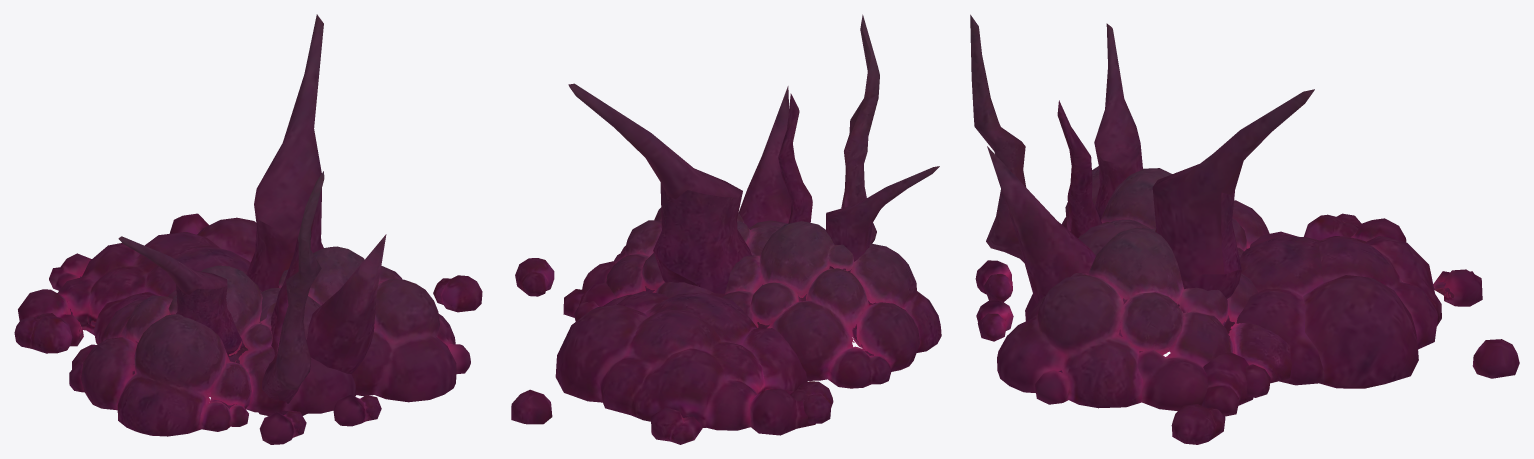
3 views of the same model, side by side, from view 1: azimuth 30°, elevation 25°; view 2: azimuth 150°, elevation 25°; view 3: azimuth 270°, elevation 25° (orthographic). The views are drawn at different scales.
Parts seen in each view (by area): view 1: SM_WitherSpine_Cluster_01_LOD0; view 2: SM_WitherSpine_Cluster_01_LOD0; view 3: SM_WitherSpine_Cluster_01_LOD0.
Boxes of the visible parts, bbox=[...] form: SM_WitherSpine_Cluster_01_LOD0: bbox=[14, 14, 482, 444]; SM_WitherSpine_Cluster_01_LOD0: bbox=[511, 14, 941, 444]; SM_WitherSpine_Cluster_01_LOD0: bbox=[970, 14, 1519, 444].
Bounding box in the file's own units: 1.59 × 1.09 × 1.7.
Materials: 1 (1 with a texture image).
